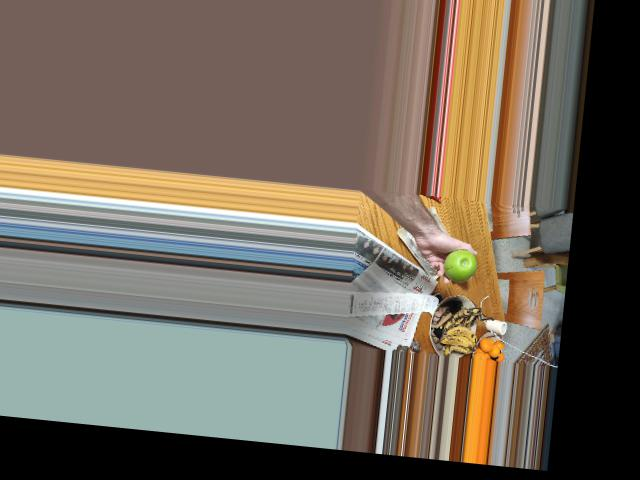apple: (441, 245, 479, 282)
